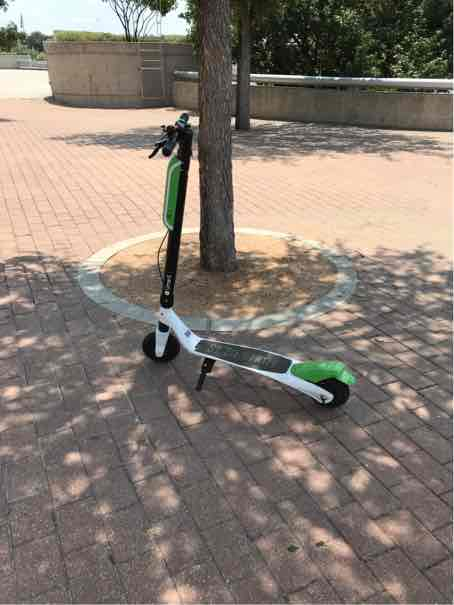scooter: (134, 105, 353, 420)
